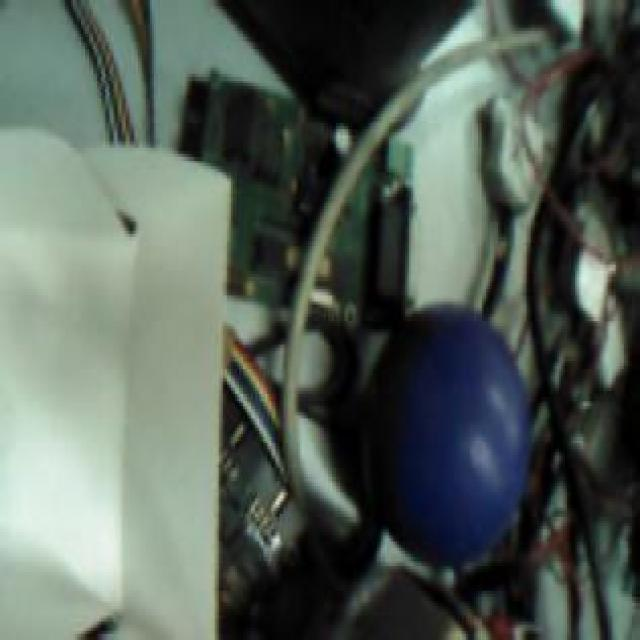BallPurple: (364, 303, 528, 561)
